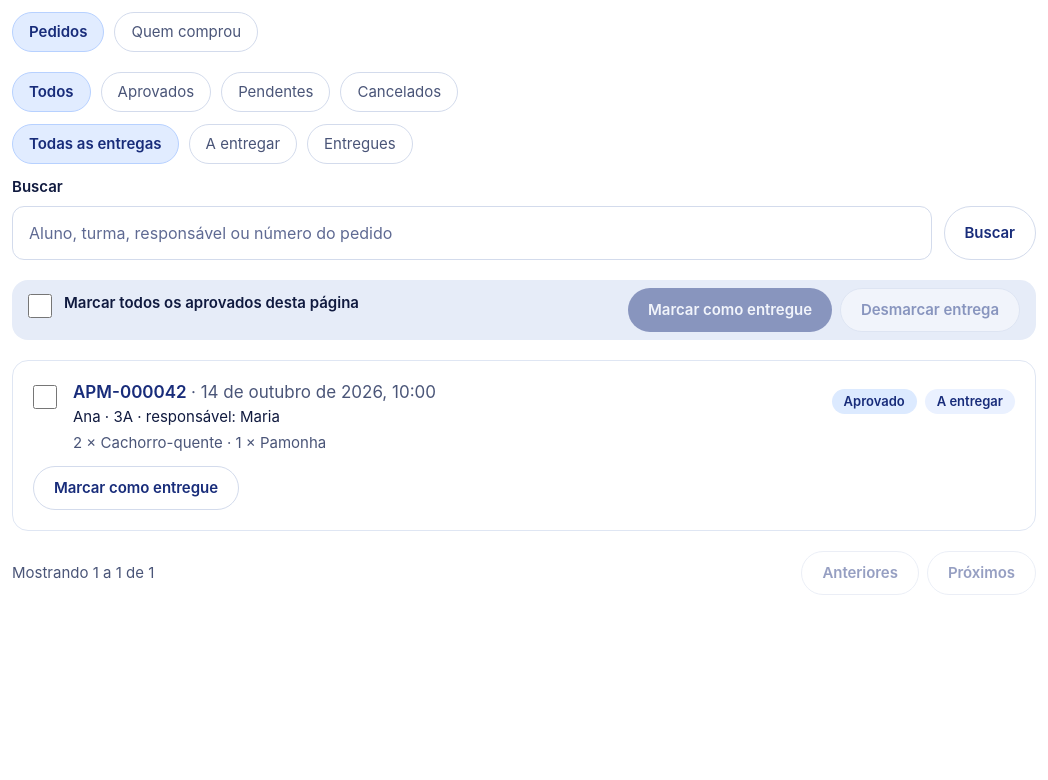
Test: pedidos da campanha › erro da API ao marcar a entrega aparece em portugues e nada some da tela
The image size is (1048, 780).
Click the button with aria-label "Marcar o pedido APM-000042 como entregue" at (136, 488), box [33, 466, 239, 510]
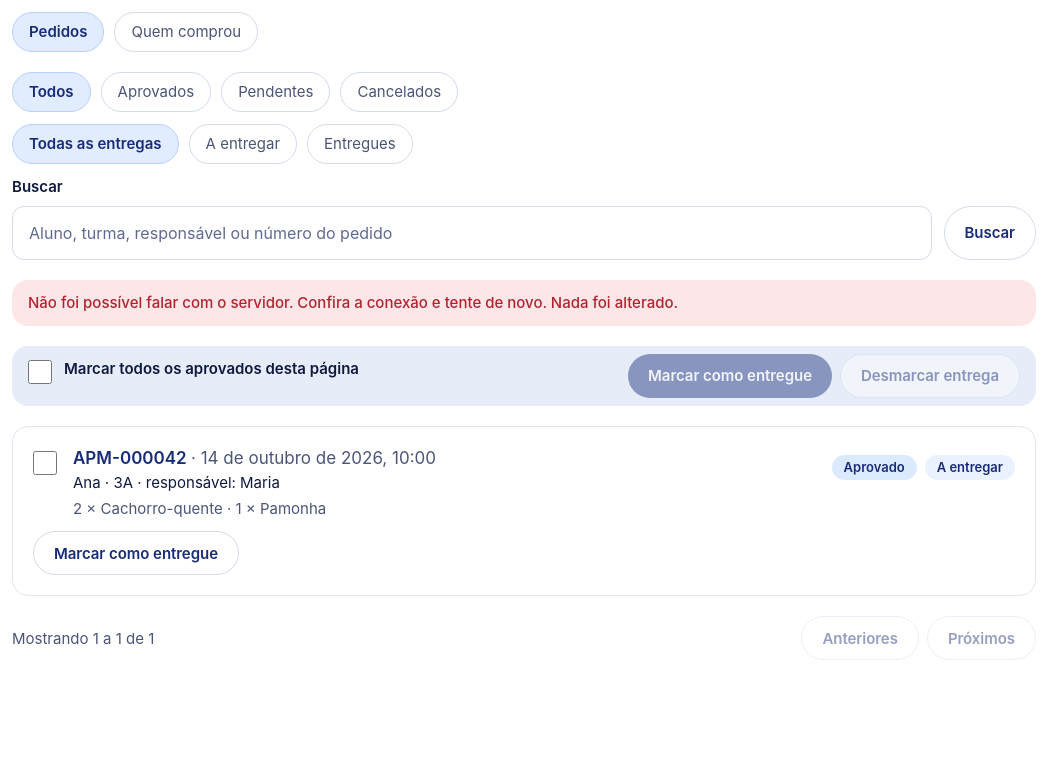
Expected: the text "APM-000042" is shown, [73, 448, 187, 468]
Expected: the message shows "Nada foi alterado", [28, 293, 678, 312]
